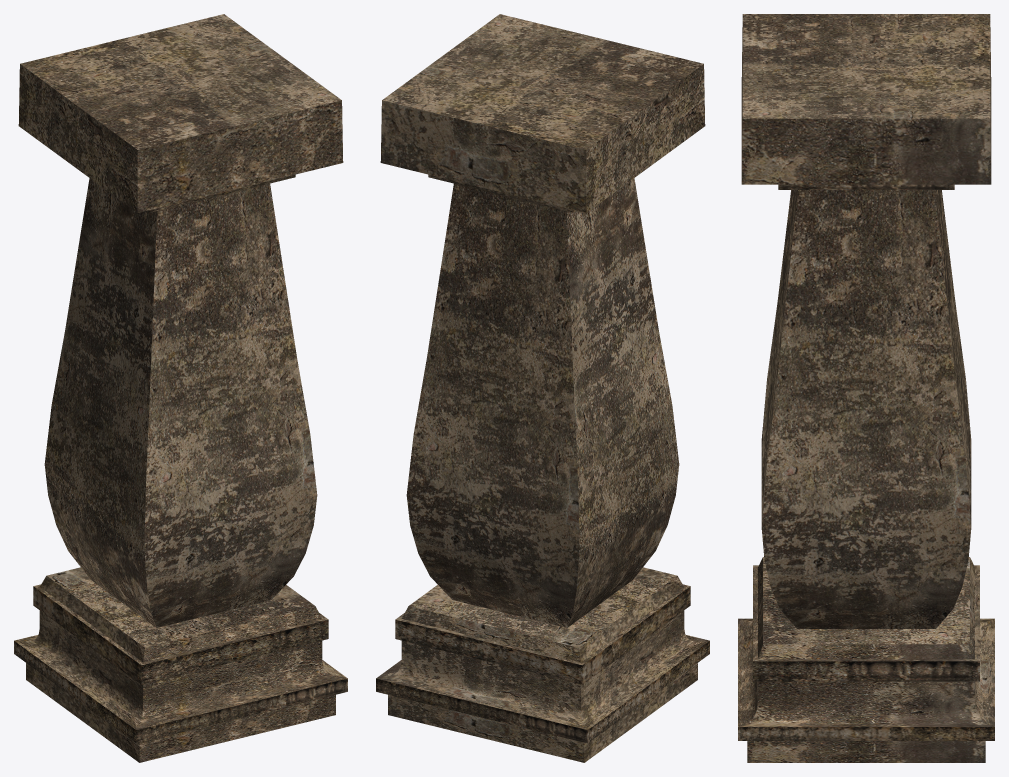
Rendered from materials_5_pillar_short_12.fbx.
3 renders of one model, left to right at view 1: azimuth 30°, elevation 25°; view 2: azimuth 150°, elevation 25°; view 3: azimuth 270°, elevation 25°, orthographic. The views are drawn at different scales.
Visible parts, largest first — view 1: materials_5_pillar_short_12; view 2: materials_5_pillar_short_12; view 3: materials_5_pillar_short_12.
Part boxes in pixels (left/top/right/bottom): materials_5_pillar_short_12: left=14, top=14, right=347, bottom=762; materials_5_pillar_short_12: left=376, top=14, right=709, bottom=762; materials_5_pillar_short_12: left=738, top=14, right=994, bottom=762.
Size of the model in its own units: 44.08 by 122 by 44.08.
